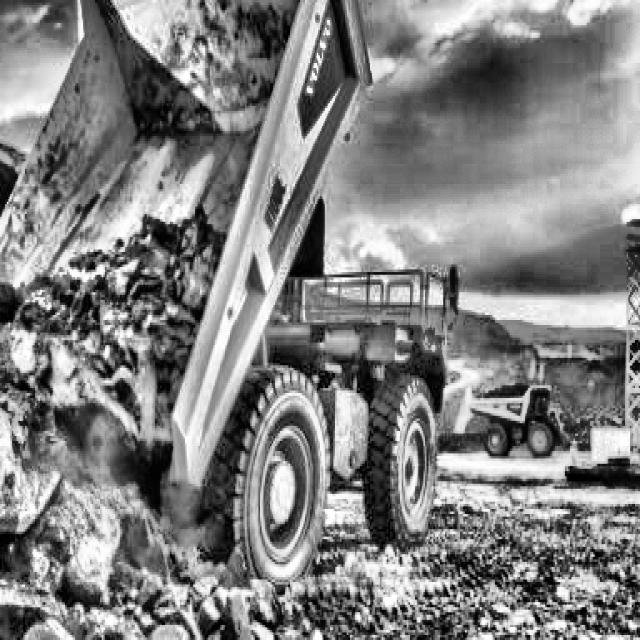dump_truck: (5, 0, 470, 587), (465, 362, 588, 468)
